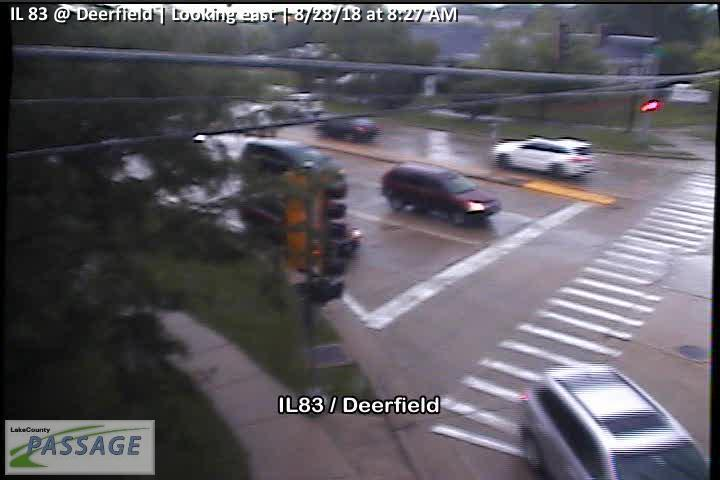SUV: (516, 360, 709, 480), (378, 162, 501, 224), (491, 135, 595, 183)
Sedan: (318, 113, 380, 143)
